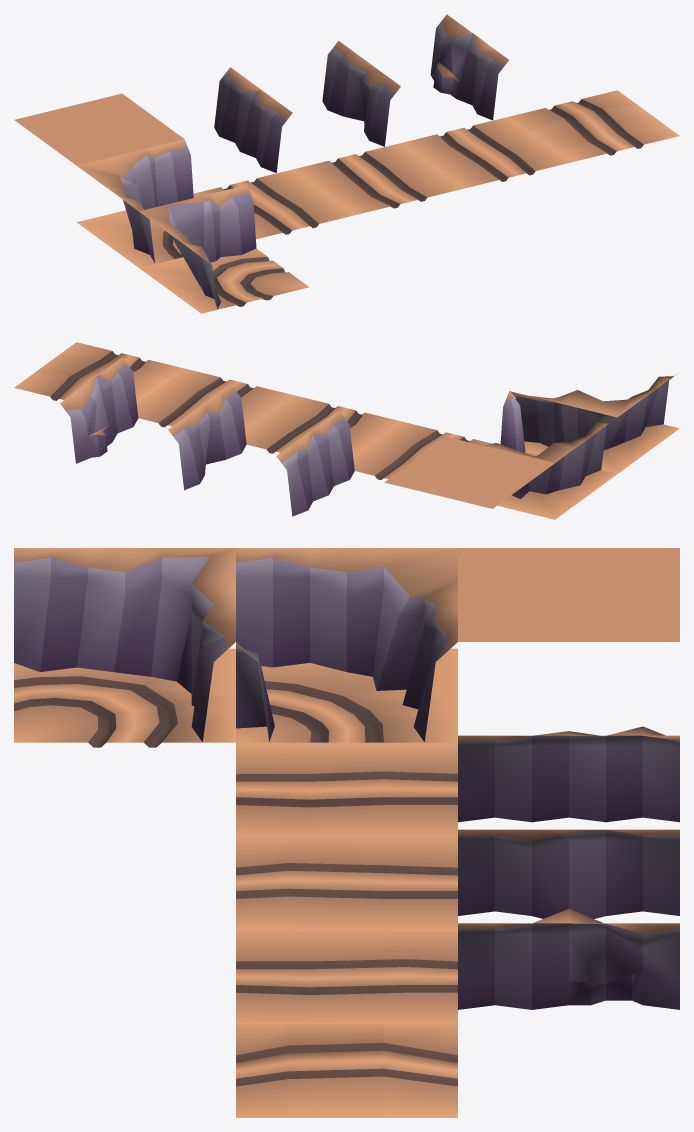
The model's file is MarsTiles.fbx.
3 renders of one model, top to bottom at view 1: azimuth 30°, elevation 25°; view 2: azimuth 150°, elevation 25°; view 3: azimuth 270°, elevation 25°, orthographic. The views are drawn at different scales.
Parts seen in each view (by area): view 1: GroundStraight2, GroundStraight4, GroundFlat, GroundStraight3, WallCorner2, WallCorner1, GroundCorner2, WallStraight3, WallStraight1, GroundStraight1, WallStraight2, GroundCorner1; view 2: GroundFlat, WallCorner2, WallStraight3, WallStraight1, WallStraight2, GroundStraight4, GroundStraight2, GroundStraight3, WallCorner1, GroundStraight1, GroundCorner1, GroundCorner2 (+1 smaller); view 3: WallCorner2, WallCorner1, GroundStraight2, GroundStraight1, GroundStraight4, GroundStraight3, GroundFlat, WallStraight1, WallStraight3, WallStraight2, GroundCorner2, GroundCorner1 (+1 smaller).
Part boxes in pixels (x1,y1,x2,y2): GroundStraight2: [293, 143, 463, 214]; GroundStraight4: [510, 90, 679, 162]; GroundFlat: [14, 93, 184, 165]; GroundStraight3: [401, 116, 571, 188]; WallCorner2: [139, 185, 256, 309]; WallCorner1: [77, 139, 193, 262]; GroundCorner2: [139, 248, 308, 313]; WallStraight3: [430, 14, 508, 120]; WallStraight1: [214, 67, 292, 173]; GroundStraight1: [193, 169, 354, 239]; WallStraight2: [322, 41, 400, 146]; GroundCorner1: [76, 210, 182, 267]; GroundFlat: [384, 437, 554, 508]; WallCorner2: [509, 374, 676, 449]; WallStraight3: [60, 358, 138, 463]; WallStraight1: [276, 410, 354, 516]; WallStraight2: [168, 384, 246, 490]; GroundStraight4: [14, 342, 184, 403]; GroundStraight2: [245, 395, 400, 456]; GroundStraight3: [137, 368, 292, 429]; WallCorner1: [471, 419, 614, 498]; GroundStraight1: [353, 421, 491, 479]; GroundCorner1: [497, 451, 616, 519]; GroundCorner2: [524, 424, 679, 473]; WallCorner2: [14, 548, 235, 741]; WallCorner1: [236, 548, 457, 741]; GroundStraight2: [236, 836, 457, 930]; GroundStraight1: [236, 742, 457, 836]; GroundStraight4: [236, 1024, 457, 1117]; GroundStraight3: [236, 930, 457, 1023]; GroundFlat: [458, 548, 679, 641]; WallStraight1: [458, 726, 679, 822]; WallStraight3: [458, 909, 679, 1009]; WallStraight2: [458, 829, 679, 918]; GroundCorner2: [14, 648, 235, 747]; GroundCorner1: [236, 648, 457, 742].
Size of the model in its own units: 1000 by 115 by 600.
